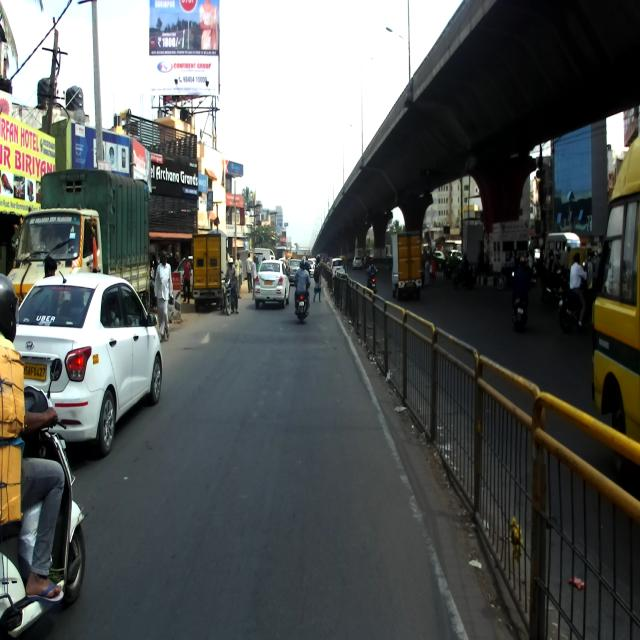car ahead at: (252, 248, 287, 323)
motorcycle ahead at: (0, 277, 87, 640)
truck ahead at: (190, 228, 222, 314)
